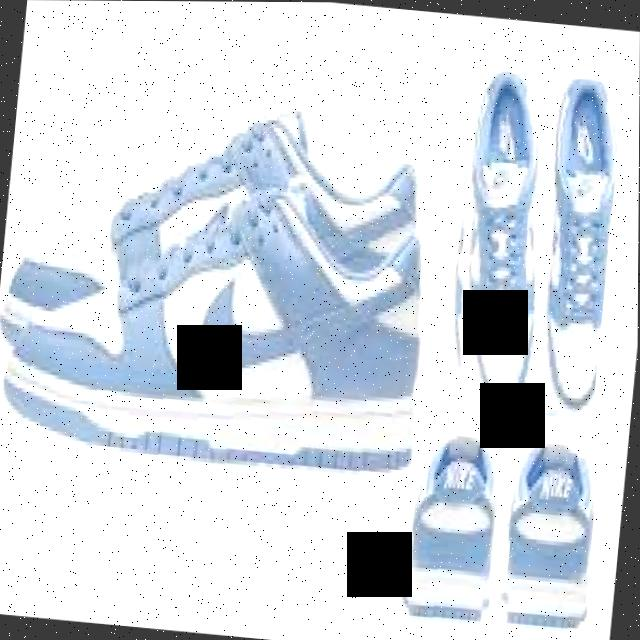shoe: (0, 82, 443, 490), (436, 68, 624, 420), (400, 425, 607, 640)
